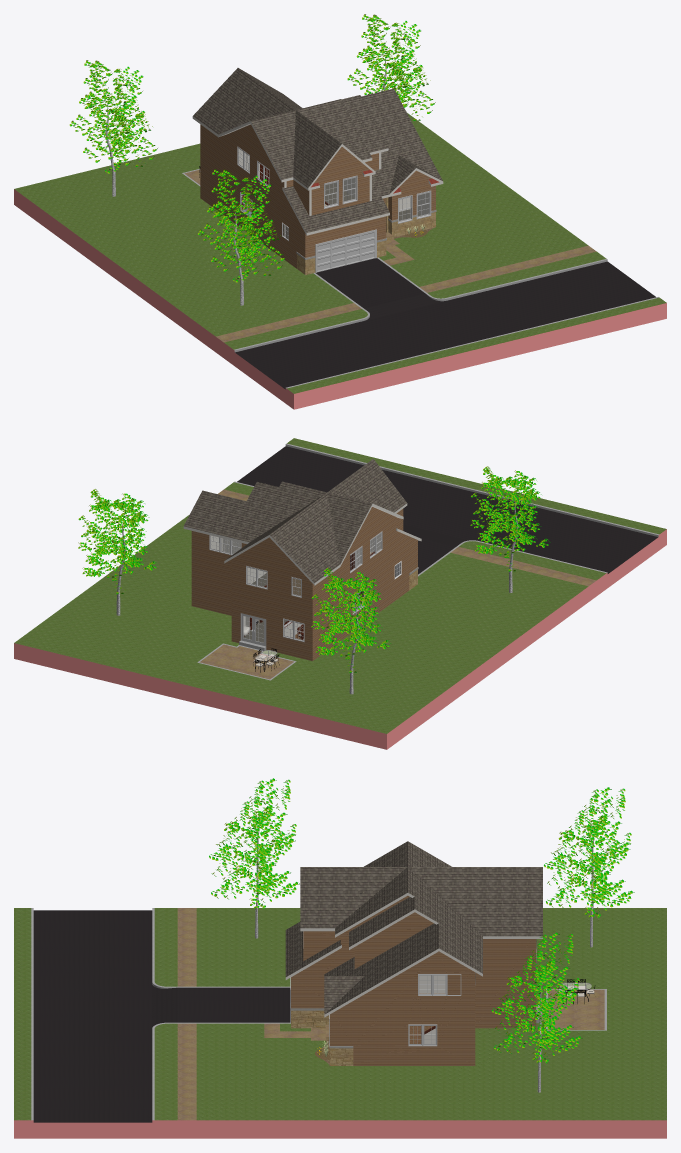
The model's file is house.glb.
3 renders of one model, top to bottom at view 1: azimuth 30°, elevation 25°; view 2: azimuth 150°, elevation 25°; view 3: azimuth 270°, elevation 25°, orthographic. The views are drawn at different scales.
Parts seen in each view (by area): view 1: ske26CA#2, Garage door; view 2: ske26CA#2; view 3: ske26CA#2.
Boxes of the visible parts, bbox=[...] form: ske26CA#2: bbox=[14, 68, 666, 409]; Garage door: bbox=[315, 229, 376, 272]; ske26CA#2: bbox=[14, 438, 666, 749]; ske26CA#2: bbox=[14, 841, 666, 1138].
Size of the model in its own units: 30.89 by 11.6 by 40.17.
Materials: 75 (38 with a texture image).
